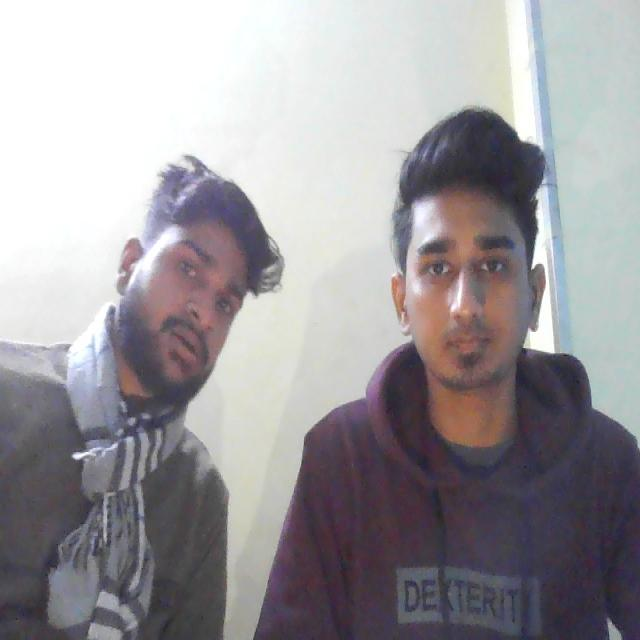real: (394, 119, 553, 420), (122, 163, 248, 400)
